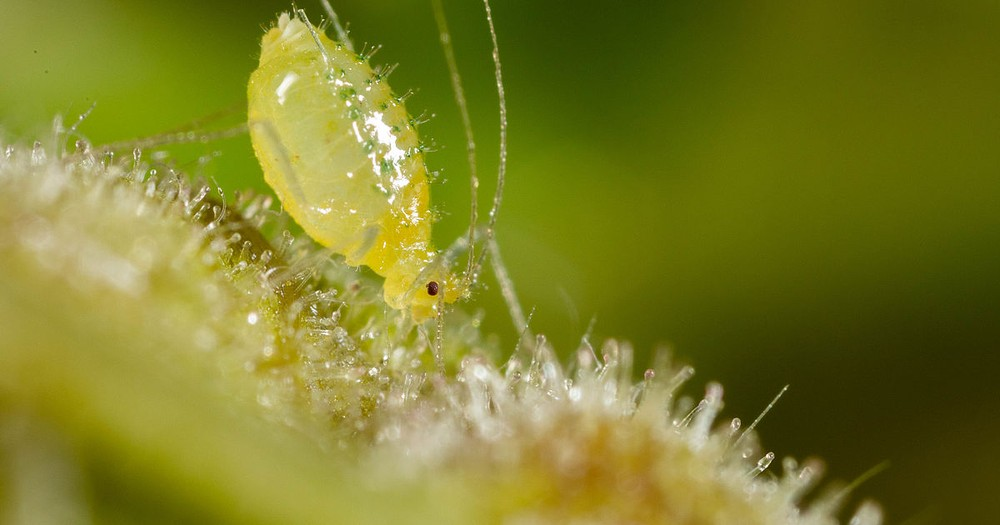Pulgon: (162, 3, 536, 379)
